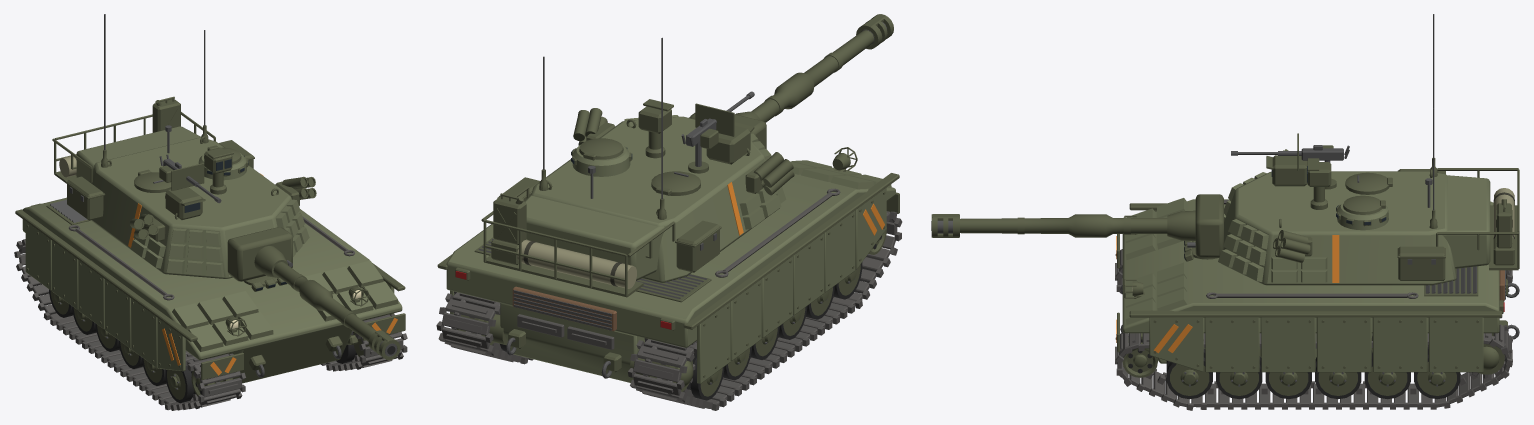
File: Enemy_Tank.fbx
The picture shows the model from 3 angles, left to right: view 1: azimuth 30°, elevation 25°; view 2: azimuth 150°, elevation 25°; view 3: azimuth 270°, elevation 25°; orthographic projection. The views are drawn at different scales.
Visible parts, largest first — view 1: Enemy_Tank_Mesh, Turret; view 2: Enemy_Tank_Mesh, Turret; view 3: Enemy_Tank_Mesh, Turret.
Boxes of the visible parts, box(x1,y1,x2,y2) form: Enemy_Tank_Mesh: box(14, 197, 407, 410); Turret: box(52, 14, 400, 360); Enemy_Tank_Mesh: box(436, 117, 902, 410); Turret: box(481, 14, 893, 297); Enemy_Tank_Mesh: box(1115, 198, 1519, 410); Turret: box(931, 14, 1519, 285).
Bounding box in the file's own units: 2.24 × 2.97 × 5.
